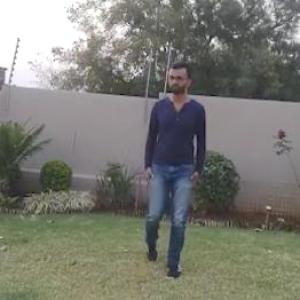follow: (137, 56, 204, 279)
